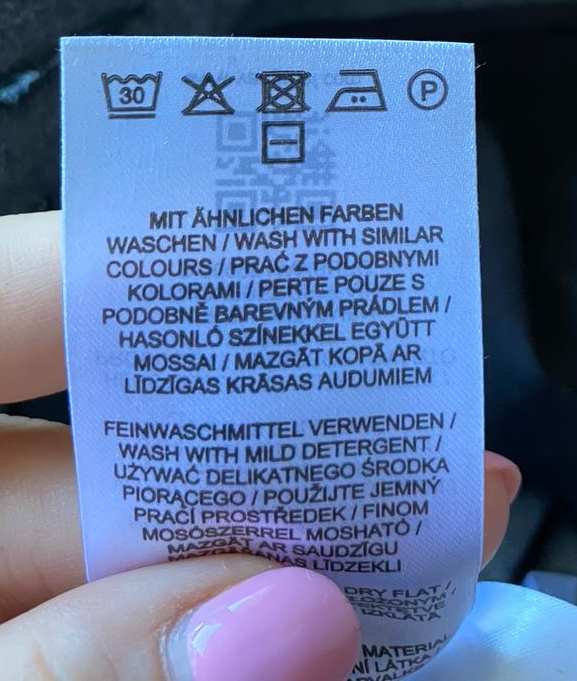do_not_bleach: (178, 68, 240, 118)
do_not_tumble_drying: (252, 65, 317, 116)
dry_clean_tetrachloroethylene_pce_only: (405, 64, 450, 114)
dry_flat: (260, 117, 309, 165)
ironing_at_med_temp: (325, 66, 390, 114)
wash_at_or_below_30_mild_fine_wash: (96, 68, 165, 124)
